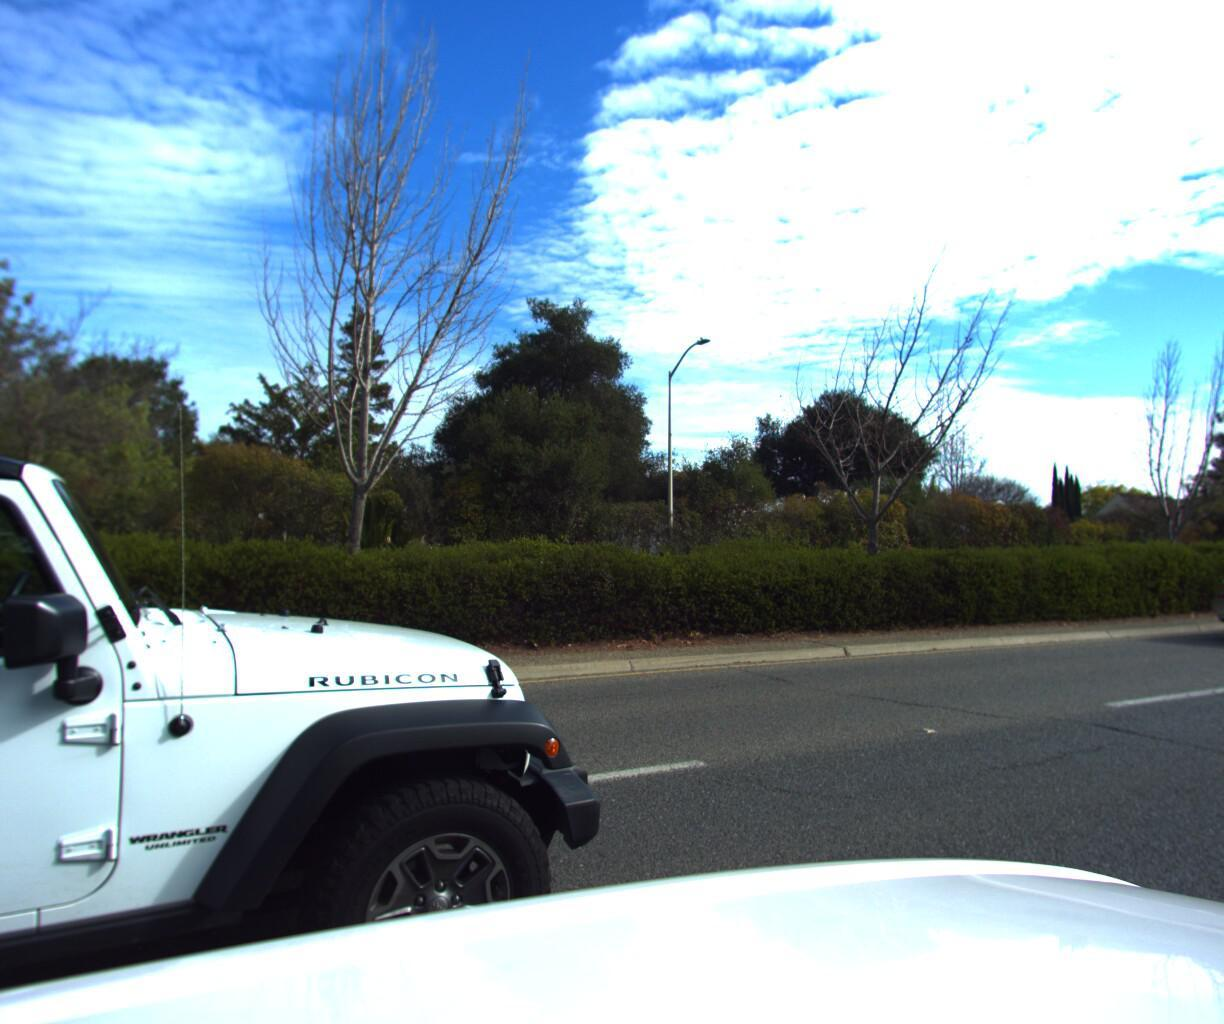car: (0, 207, 680, 1024), (1202, 544, 1224, 649)
